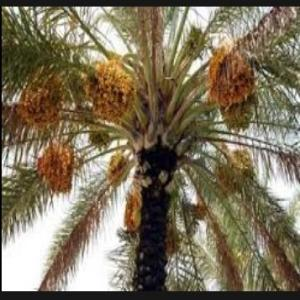palm tree: (1, 6, 299, 290)
